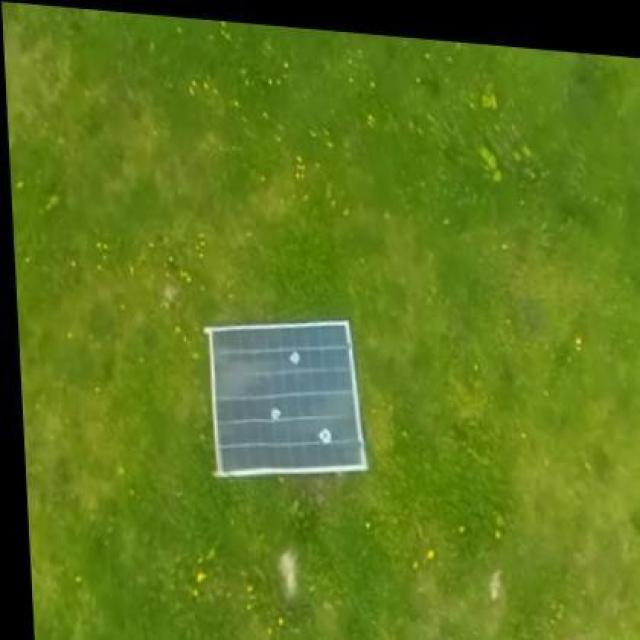soiled: (208, 321, 368, 477)
